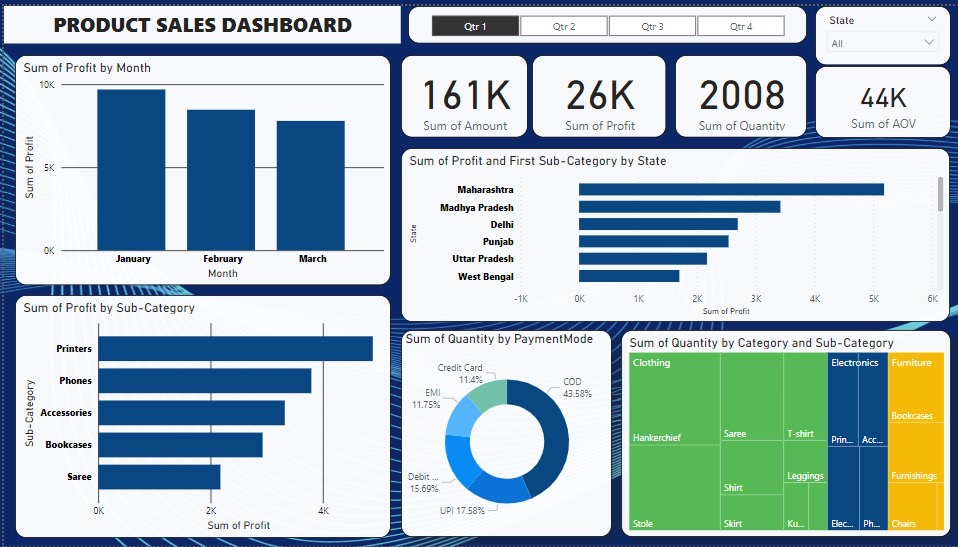

What the dashboard file says about the page in this screenshot:
{"tool":"powerbi","page":{"name":"Page 1","canvas":[1280,720],"ordinal":0},"visuals":[{"type":"textbox","box":[0,0,529.4,50],"z":0},{"type":"clusteredColumnChart","fields":{"Category":["Orders.Order Date.Variation.Date Hierarchy.Month"],"Y":["Sum(Details.Profit)"]},"box":[14.7,64.7,501.5,307.4],"z":1000},{"type":"barChart","fields":{"Category":["Details.Sub-Category"],"Y":["Sum(Details.Profit)"]},"box":[14.7,385.3,501.5,323.5],"z":2000},{"type":"card","fields":{"Values":["Sum(Details.Amount)"]},"box":[529.4,64.7,169.1,110.3],"z":3000},{"type":"card","fields":{"Values":["Sum(Details.Profit)"]},"box":[704.4,64.7,179.4,110.3],"z":4000},{"type":"card","fields":{"Values":["Sum(Details.Quantity)"]},"box":[894.1,64.7,176.5,110.3],"z":5000},{"type":"card","fields":{"Values":["Sum(Details.AVRAGE)"]},"box":[1080.9,79.4,180.9,95.6],"z":6000},{"type":"barChart","fields":{"Y":["Sum(Details.Profit)"],"Category":["Orders.State"]},"box":[529.4,189.7,732.4,232.4],"z":7000},{"type":"treemap","fields":{"Group":["Details.Category"],"Values":["Sum(Details.Quantity)"],"Details":["Details.Sub-Category"]},"box":[822.1,432.4,439.7,276.5],"z":8000},{"type":"donutChart","fields":{"Y":["Sum(Details.Quantity)"],"Category":["Details.PaymentMode"]},"box":[529.4,432.4,280.9,276.5],"z":9000},{"type":"slicer","fields":{"Values":["Orders.Order Date.Variation.Date Hierarchy.Quarter"]},"box":[538.2,0,532.4,50],"z":10000},{"type":"slicer","fields":{"Values":["Orders.State"]},"box":[1080.9,0,180.9,79.4],"z":11000}]}

Visuals, with their boxes in screenshot pixels (x1, y1, x2, y2), scaled from the page's 1280x720 canvas onto the 958x547 screenshot:
textbox: crop(0, 0, 396, 38)
clusteredColumnChart - Orders.Order Date.Variation.Date Hierarchy.Month x Sum(Details.Profit): crop(11, 49, 386, 283)
barChart - Details.Sub-Category x Sum(Details.Profit): crop(11, 293, 386, 538)
card - Sum(Details.Amount): crop(396, 49, 523, 133)
card - Sum(Details.Profit): crop(527, 49, 661, 133)
card - Sum(Details.Quantity): crop(669, 49, 801, 133)
card - Sum(Details.AVRAGE): crop(809, 60, 944, 133)
barChart - Sum(Details.Profit) x Orders.State: crop(396, 144, 944, 321)
treemap - Details.Category x Sum(Details.Quantity): crop(615, 329, 944, 539)
donutChart - Sum(Details.Quantity) x Details.PaymentMode: crop(396, 329, 606, 539)
slicer - Orders.Order Date.Variation.Date Hierarchy.Quarter: crop(403, 0, 801, 38)
slicer - Orders.State: crop(809, 0, 944, 60)
